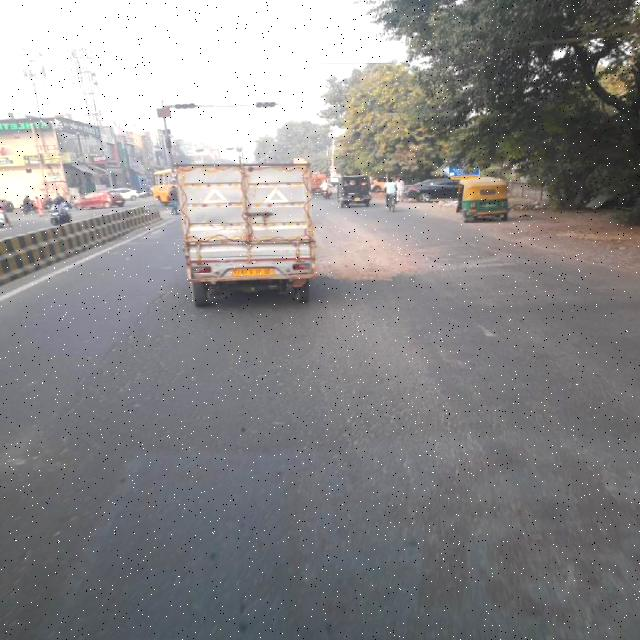D20: (73, 327, 536, 626)
